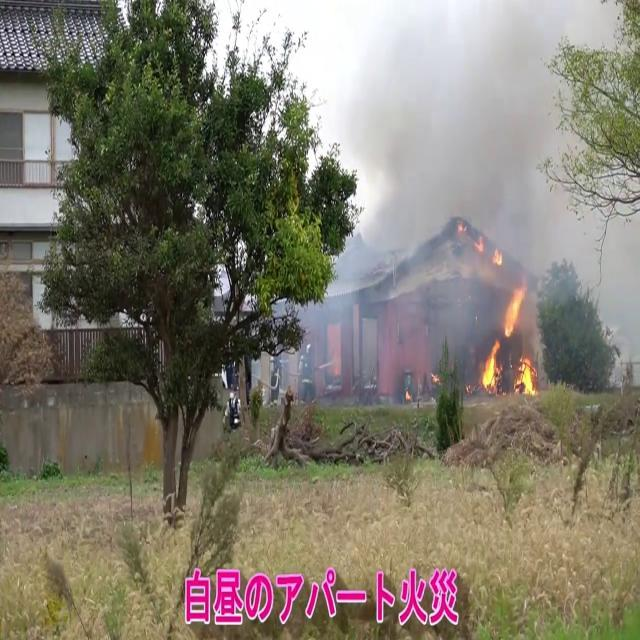Fire: (479, 276, 539, 397)
Smoke: (318, 1, 544, 375)
